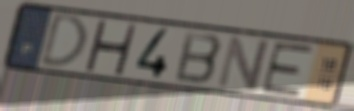4: (133, 26, 171, 82)
B: (172, 29, 225, 86)
D: (37, 12, 90, 69)
E: (258, 41, 317, 99)
H: (82, 18, 139, 78)
N: (214, 33, 273, 93)
